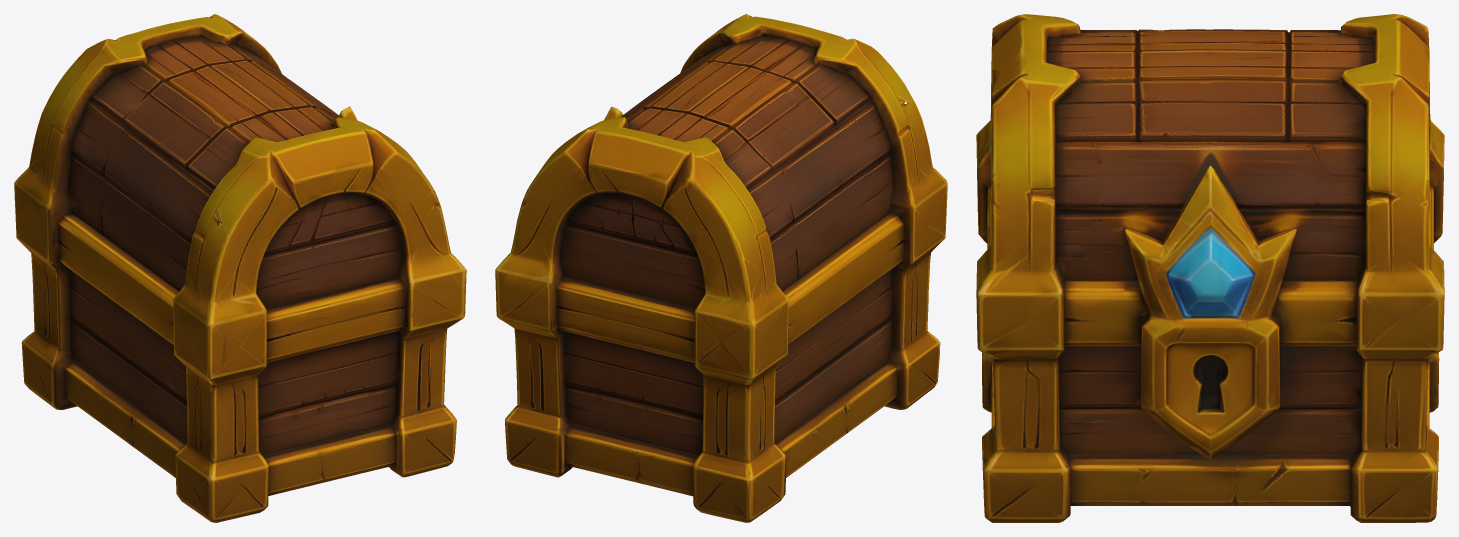
The model's file is Chest.glb.
3 views of the same model, side by side, from view 1: azimuth 30°, elevation 25°; view 2: azimuth 150°, elevation 25°; view 3: azimuth 270°, elevation 25° (orthographic). The views are drawn at different scales.
Parts seen in each view (by area): view 1: tripo_node_515f250f-fb7a-418a-9199-c7520c834a05; view 2: tripo_node_515f250f-fb7a-418a-9199-c7520c834a05; view 3: tripo_node_515f250f-fb7a-418a-9199-c7520c834a05.
Boxes of the visible parts, bbox=[...] form: tripo_node_515f250f-fb7a-418a-9199-c7520c834a05: bbox=[14, 14, 466, 522]; tripo_node_515f250f-fb7a-418a-9199-c7520c834a05: bbox=[495, 14, 947, 522]; tripo_node_515f250f-fb7a-418a-9199-c7520c834a05: bbox=[976, 14, 1444, 522].
Size of the model in its own units: 0.812 by 0.9735 by 1.
Materials: 1 (1 with a texture image).
